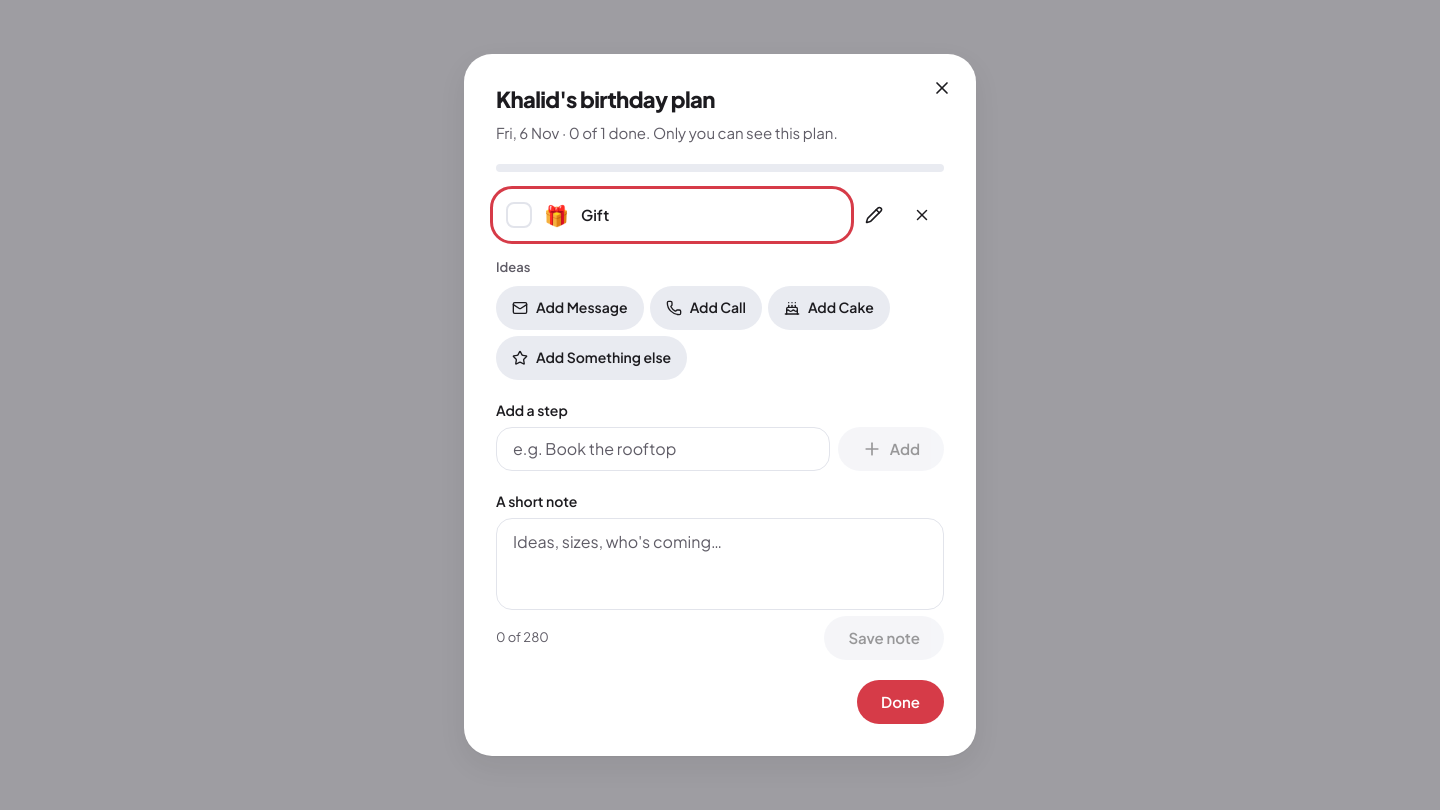
Test case: the plan sheet › removed suggestions come back as ideas; your own steps can be added
Check: the button "Add Cake" is shown, box [768,286,890,330]
Type "Book the rooftop" into the field labelled "Add a step".
click(663, 449); type("Book the rooftop")  # box [496,427,830,471]
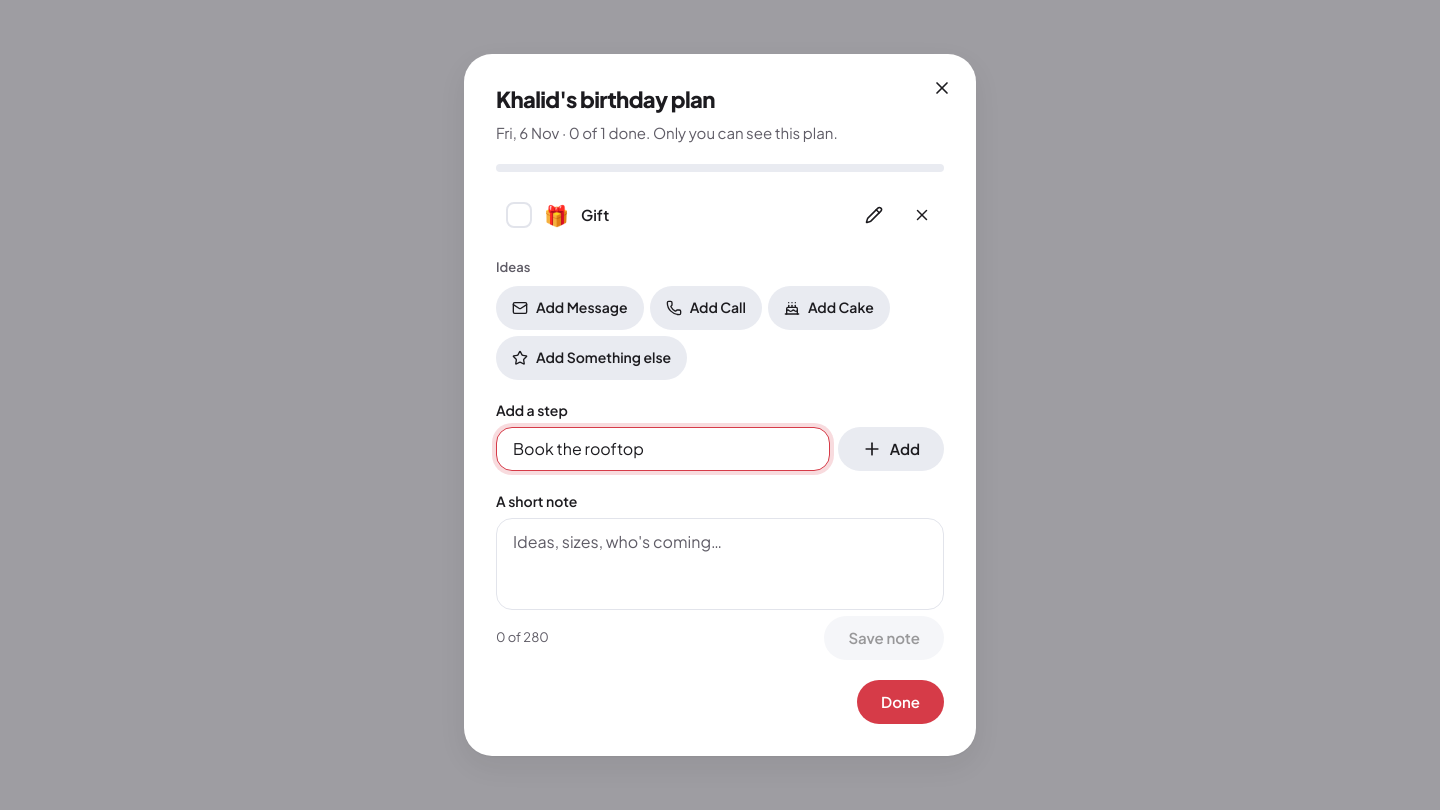
Click the button "Add".
click(891, 449)  # box [838,427,944,471]
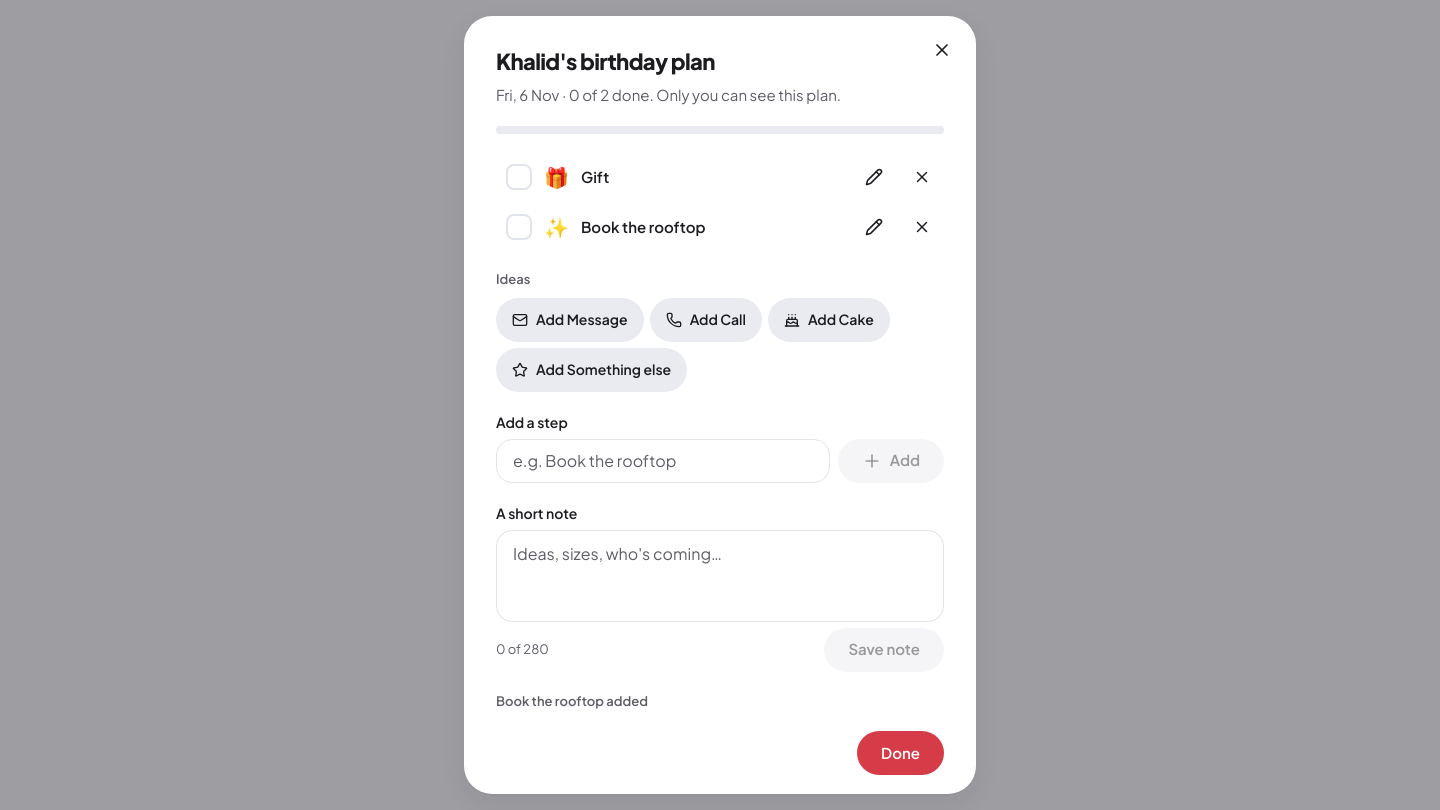
Check: the text "Book the rooftop added" is shown, box [496,692,648,708]
